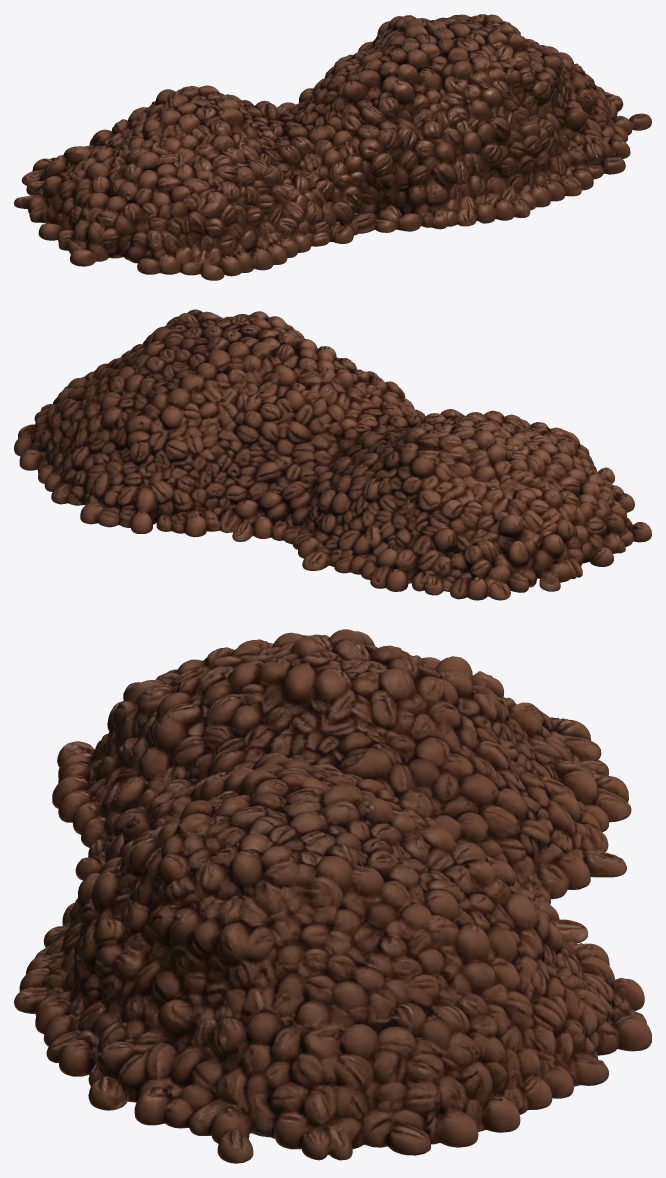
The model's file is pile.glb.
3 renders of one model, top to bottom at view 1: azimuth 30°, elevation 25°; view 2: azimuth 150°, elevation 25°; view 3: azimuth 270°, elevation 25°, orthographic. The views are drawn at different scales.
Bounding box in the file's own units: 1.9 × 0.3948 × 1.07.
Materials: 1 (1 with a texture image).
